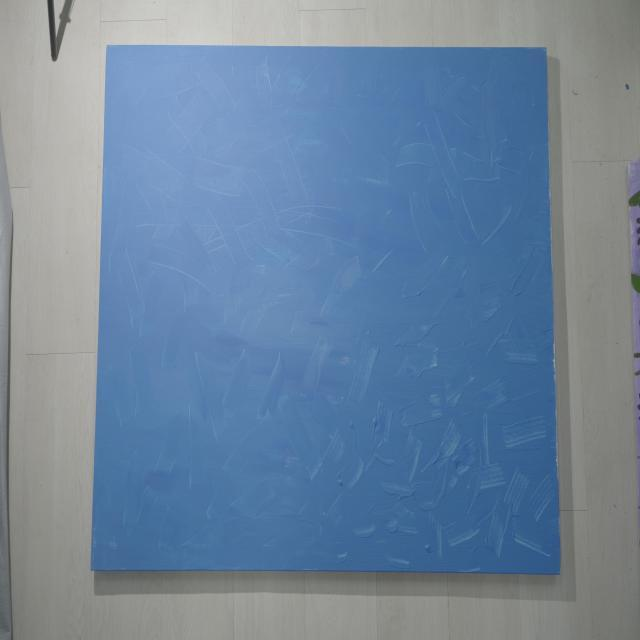painting: (92, 46, 560, 573)
